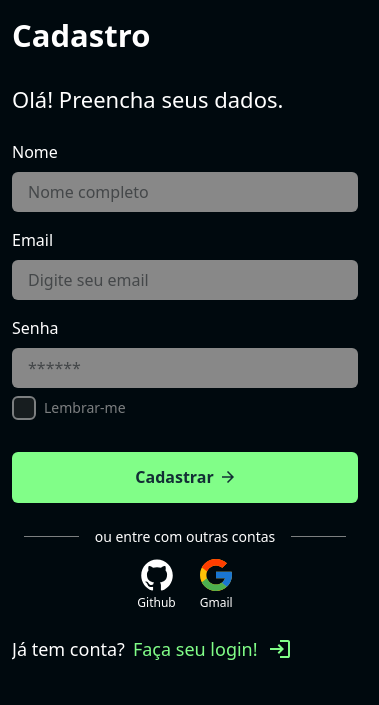
Test: SignUpForm › rejects a malformed email
The image size is (379, 705).
In the field labelled "Nome": (185, 192) [12,172,358,212], type "Maria Silva"
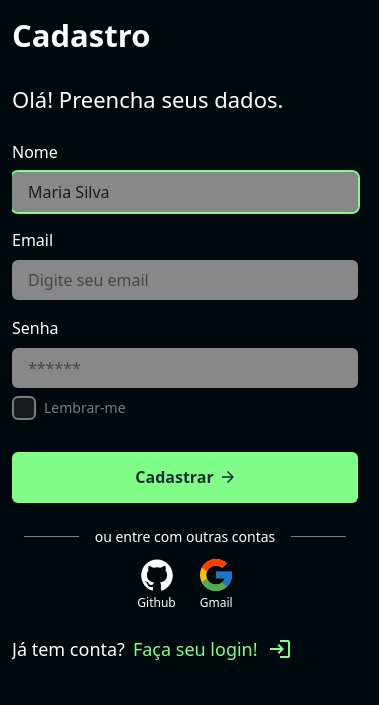
In the field labelled "Email": (185, 280) [12,260,358,300], type "maria@"
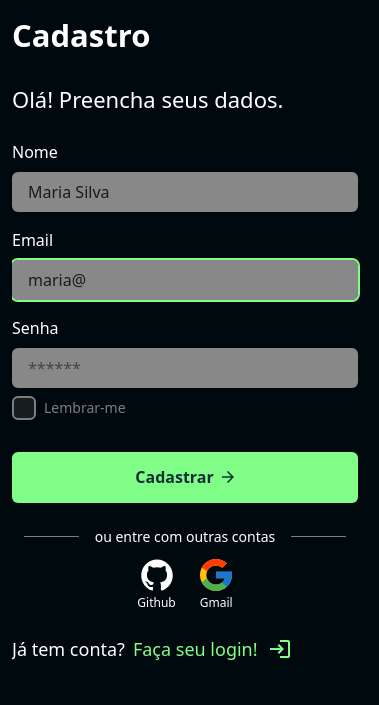
In the password field labelled "Senha": (185, 368) [12,348,358,388], type "segredo123"
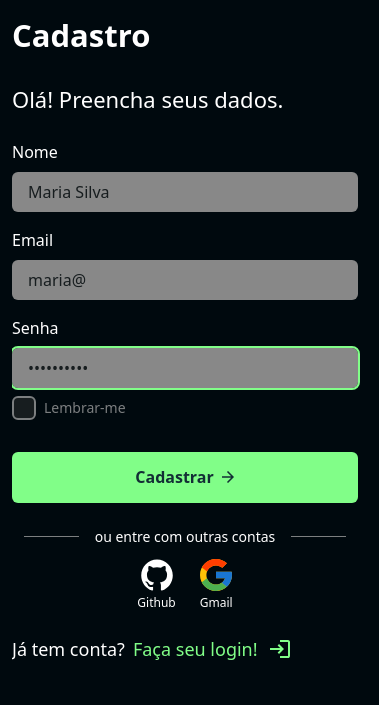
Click the button "Cadastrar": (185, 477) [12,452,358,502]
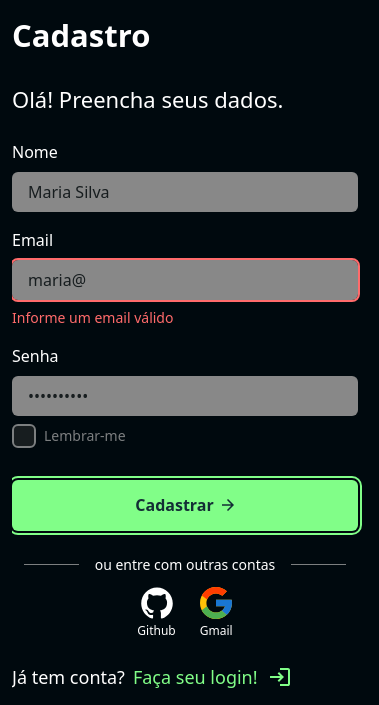
Expected: the text "Informe um email válido" is shown, [12,308,174,326]
